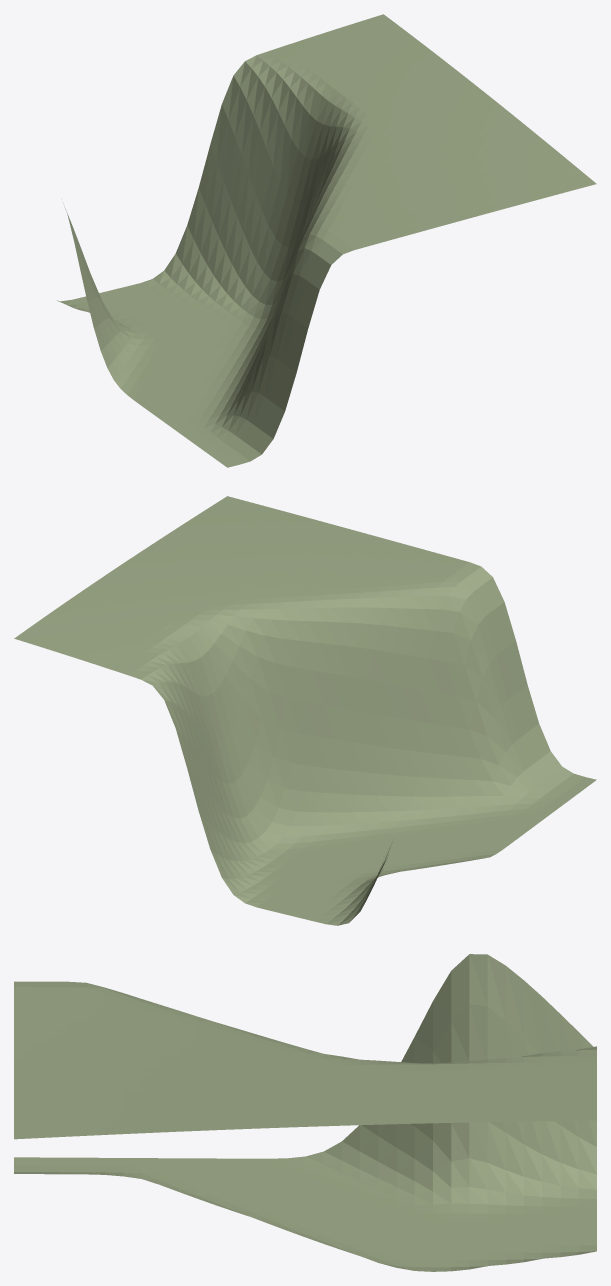
File: canyon-2-3.glb
3 views of the same model, one above another, from view 1: azimuth 30°, elevation 25°; view 2: azimuth 150°, elevation 25°; view 3: azimuth 270°, elevation 25° (orthographic). The views are drawn at different scales.
Parts seen in each view (by area): view 1: canyon-2-3; view 2: canyon-2-3; view 3: canyon-2-3.
Boxes of the visible parts, <box> form: canyon-2-3: <box>57,14,596,467</box>; canyon-2-3: <box>14,496,596,925</box>; canyon-2-3: <box>14,954,596,1271</box>.
Bounding box in the file's own units: 128 × 69.36 × 128.
